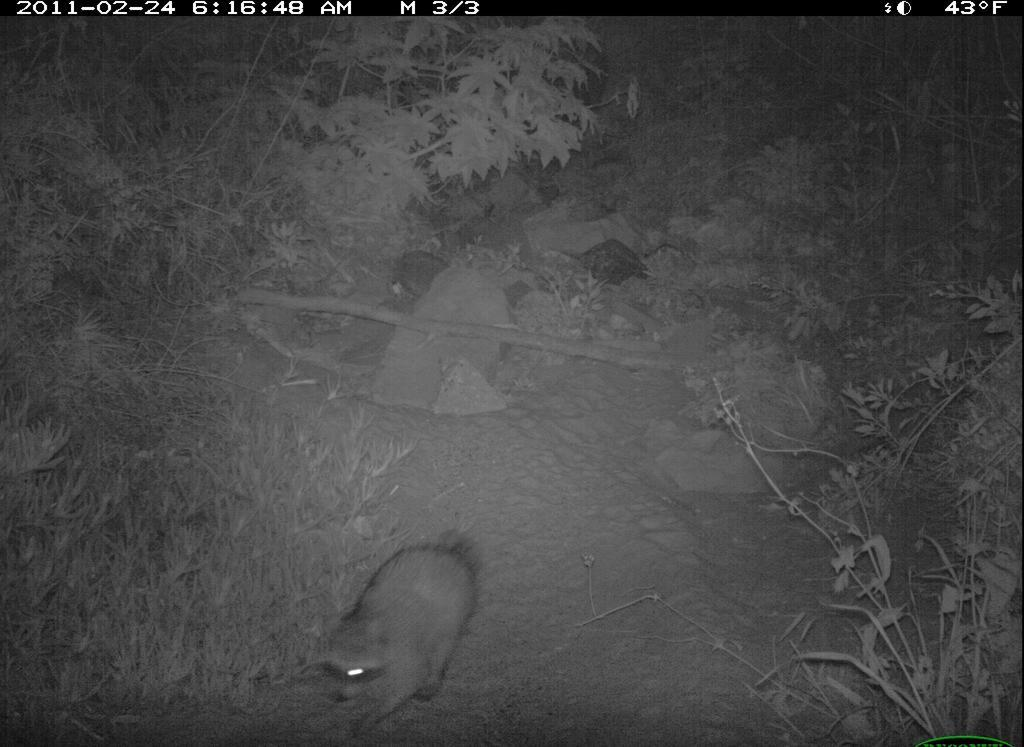raccoon: (310, 525, 497, 747)
